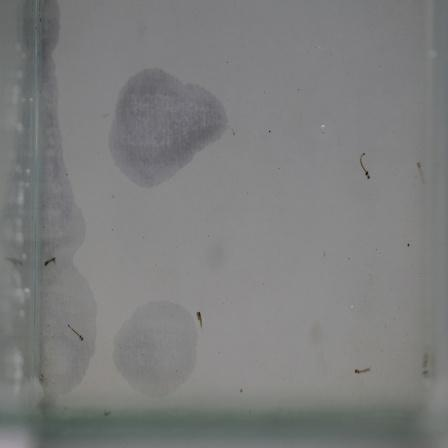Jentik-Nyamuk: (354, 147, 374, 184), (65, 316, 88, 347), (40, 251, 60, 273), (191, 308, 207, 328)
